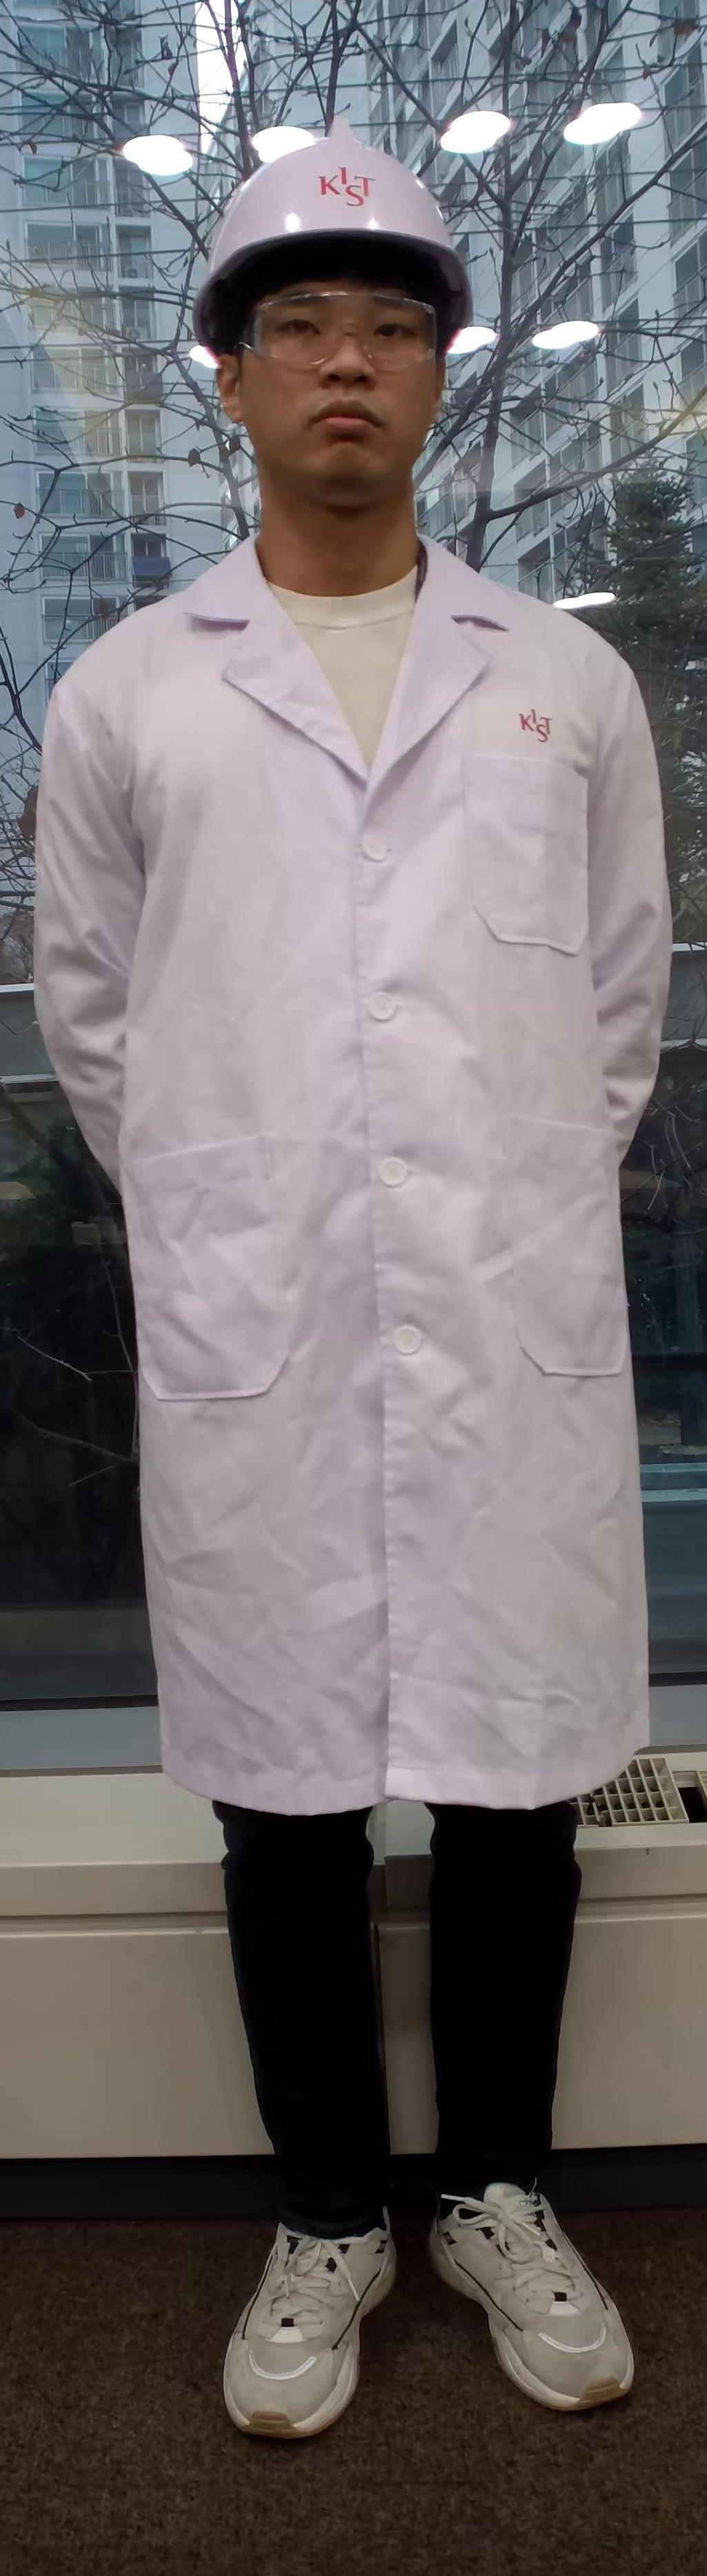lab_coat: (15, 588, 704, 1825)
